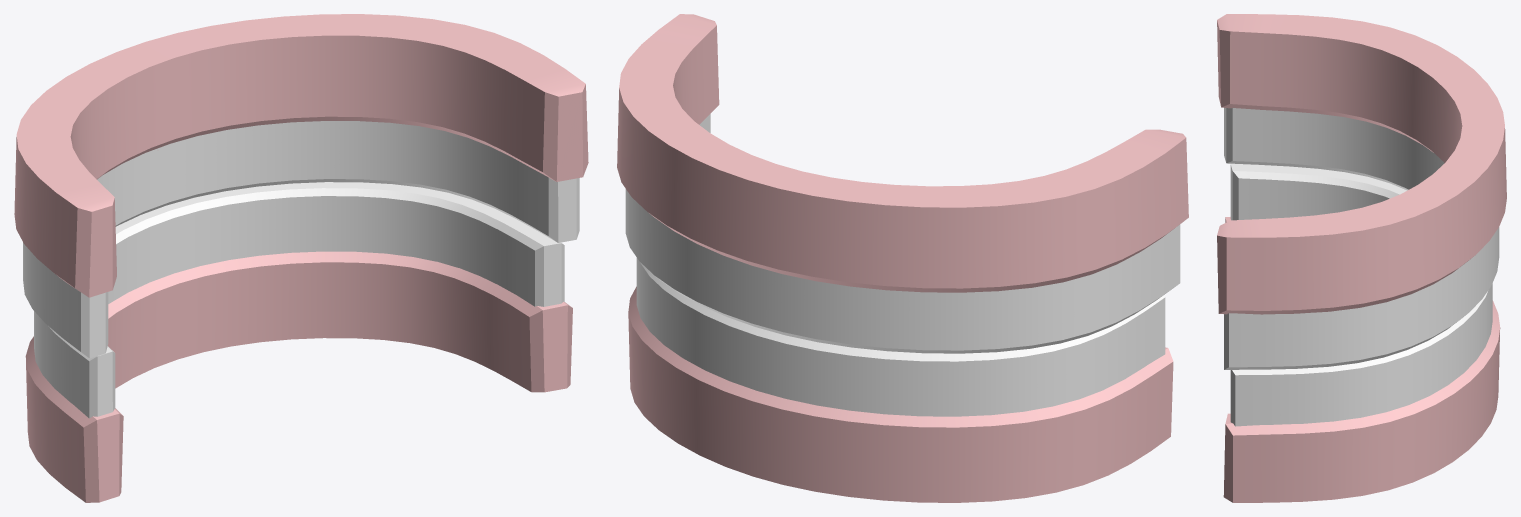
Rendered from teeth_test.fbx.
The picture shows the model from 3 angles, left to right: view 1: azimuth 30°, elevation 25°; view 2: azimuth 150°, elevation 25°; view 3: azimuth 270°, elevation 25°; orthographic projection. The views are drawn at different scales.
Parts seen in each view (by area): view 1: TeethGums; view 2: TeethGums; view 3: TeethGums.
Part boxes in pixels (box(x1,y1,x2,y2)): TeethGums: box(14, 14, 588, 502); TeethGums: box(617, 14, 1188, 502); TeethGums: box(1217, 14, 1506, 502).
Bounding box in the file's own units: 186 × 104 × 101.
